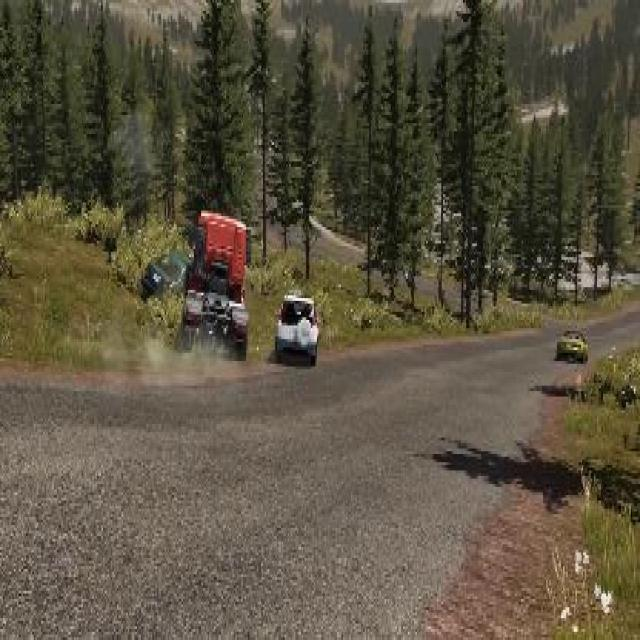accident: (142, 208, 252, 355)
